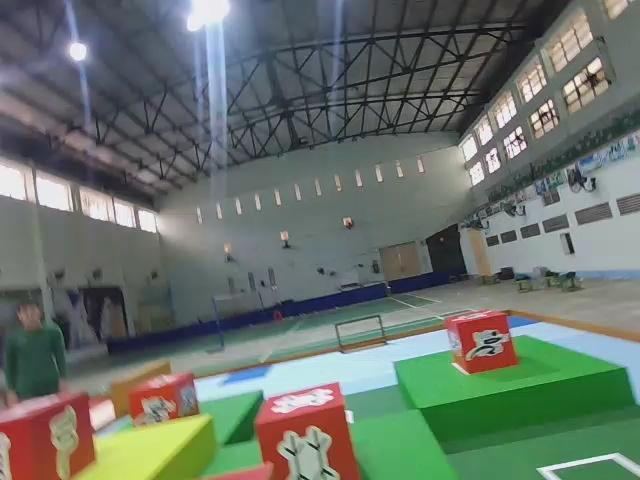R1: (125, 370, 202, 434), (444, 308, 518, 374)
R2 Fake: (0, 391, 94, 480)
R2 Real: (253, 382, 361, 480)
